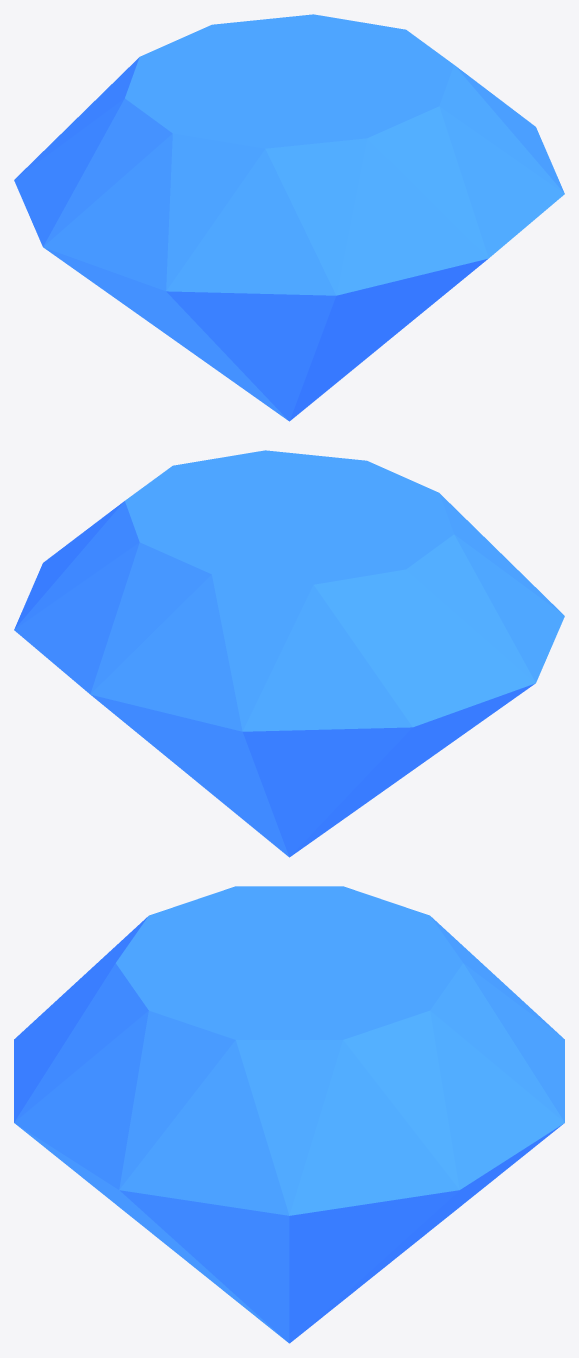
The model's file is gem_sapphire_flawless.glb.
3 renders of one model, top to bottom at view 1: azimuth 30°, elevation 25°; view 2: azimuth 150°, elevation 25°; view 3: azimuth 270°, elevation 25°, orthographic. The views are drawn at different scales.
Visible parts, largest first — view 1: gem_sapphire_4; view 2: gem_sapphire_4; view 3: gem_sapphire_4.
Boxes of the visible parts, x1=… form: gem_sapphire_4: x1=14, y1=14, x2=564, y2=421; gem_sapphire_4: x1=14, y1=450, x2=564, y2=857; gem_sapphire_4: x1=14, y1=886, x2=564, y2=1343.
Size of the model in its own units: 0.11 by 0.0725 by 0.0951.
